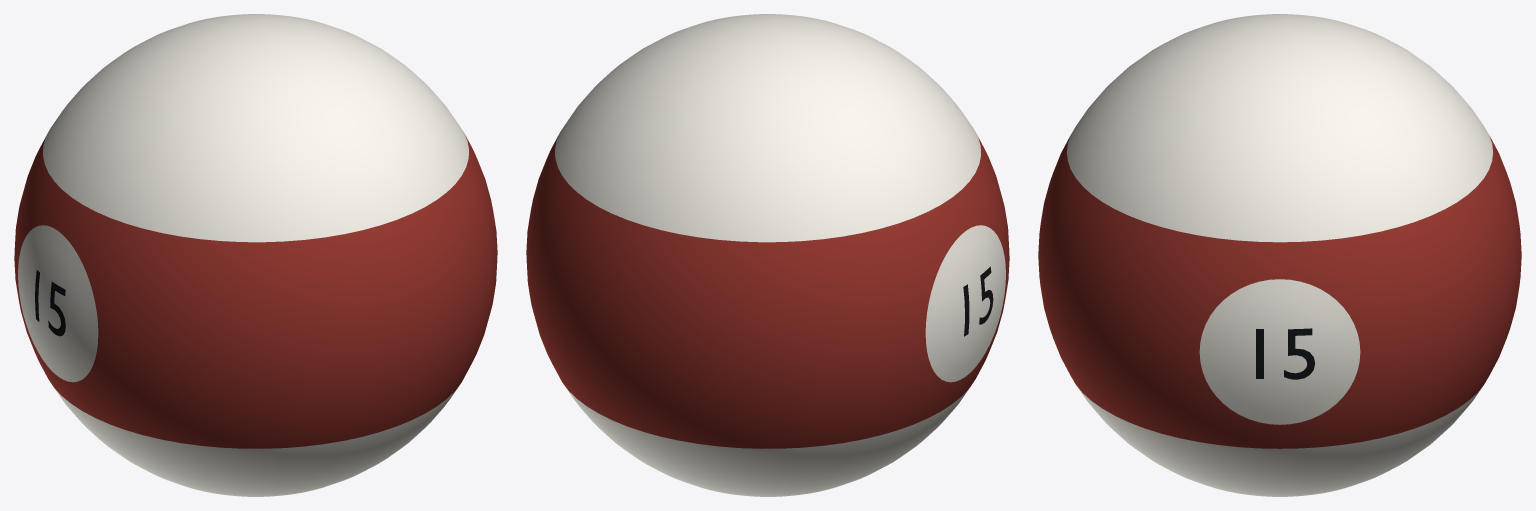
The model's file is ball_15.glb.
3 views of the same model, side by side, from view 1: azimuth 30°, elevation 25°; view 2: azimuth 150°, elevation 25°; view 3: azimuth 270°, elevation 25° (orthographic).
Visible parts, largest first — view 1: Ball 15 | resin, Ball 15 | number medallion | opposite, Ball 15 | numeral 15 | opposite; view 2: Ball 15 | resin, Ball 15 | number medallion | opposite, Ball 15 | numeral 15 | opposite; view 3: Ball 15 | resin, Ball 15 | number medallion, Ball 15 | numeral 15.
Boxes of the visible parts, box(x1,y1,x2,y2) form: Ball 15 | resin: box(14, 14, 497, 496); Ball 15 | number medallion | opposite: box(18, 225, 98, 382); Ball 15 | numeral 15 | opposite: box(35, 270, 65, 336); Ball 15 | resin: box(526, 14, 1009, 496); Ball 15 | number medallion | opposite: box(925, 225, 1005, 382); Ball 15 | numeral 15 | opposite: box(963, 266, 993, 336); Ball 15 | resin: box(1038, 14, 1521, 496); Ball 15 | number medallion: box(1199, 279, 1360, 424); Ball 15 | numeral 15: box(1256, 328, 1314, 379).
Bounding box in the file's own units: 0.0573 × 0.0571 × 0.0571.
